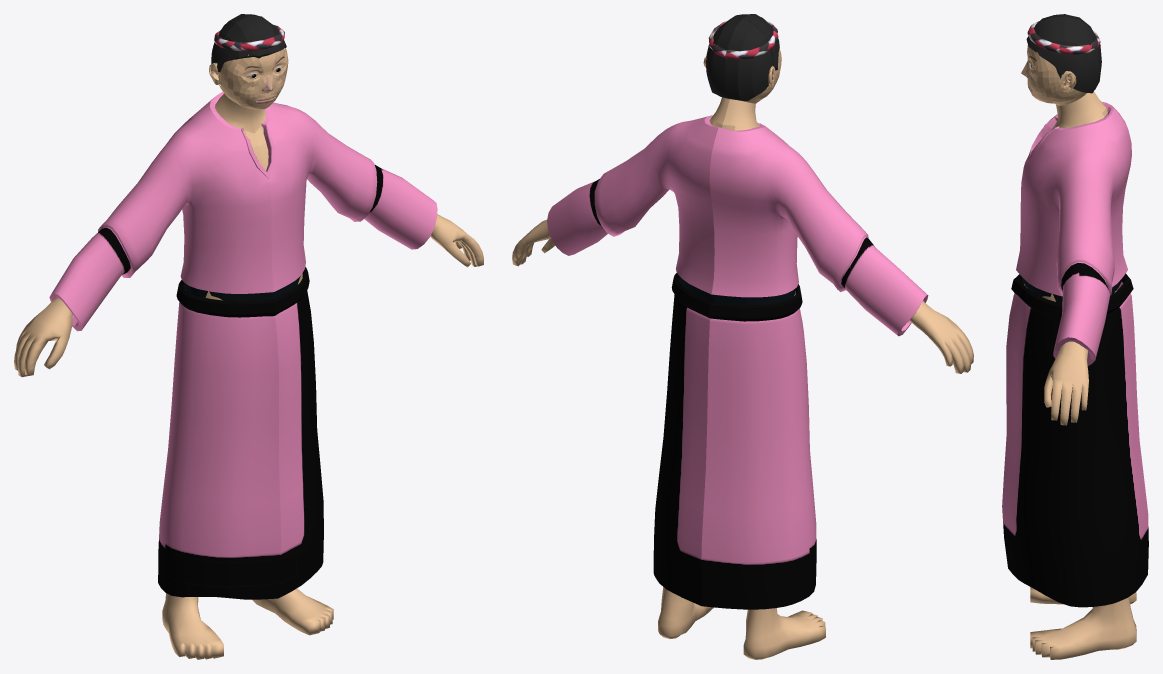
Rendered from pinkman.fbx.
3 views of the same model, side by side, from view 1: azimuth 30°, elevation 25°; view 2: azimuth 150°, elevation 25°; view 3: azimuth 270°, elevation 25° (orthographic).
Visible parts, largest first — view 1: polySurface5, _ear_v1:_ear_v5, pSphere8, pTorus3; view 2: polySurface5, _ear_v1:_ear_v5, pSphere9, pTorus3; view 3: polySurface5, _ear_v1:_ear_v5, pSphere9, pSphere8, pTorus3.
Boxes of the visible parts, left/top/right/bottom form: polySurface5: left=49, top=91, right=437, bottom=599; _ear_v1:_ear_v5: left=14, top=48, right=483, bottom=659; pSphere8: left=217, top=16, right=286, bottom=71; pTorus3: left=214, top=24, right=284, bottom=50; polySurface5: left=547, top=115, right=928, bottom=609; _ear_v1:_ear_v5: left=512, top=49, right=973, bottom=659; pSphere9: left=706, top=18, right=773, bottom=100; pTorus3: left=708, top=20, right=778, bottom=59; polySurface5: left=1002, top=101, right=1148, bottom=607; _ear_v1:_ear_v5: left=1021, top=45, right=1136, bottom=659; pSphere9: left=1065, top=14, right=1101, bottom=93; pSphere8: left=1026, top=14, right=1065, bottom=78; pTorus3: left=1027, top=21, right=1100, bottom=54.
Size of the model in its own units: 23.04 by 29.65 by 6.49.
Materials: 1 (1 with a texture image).
